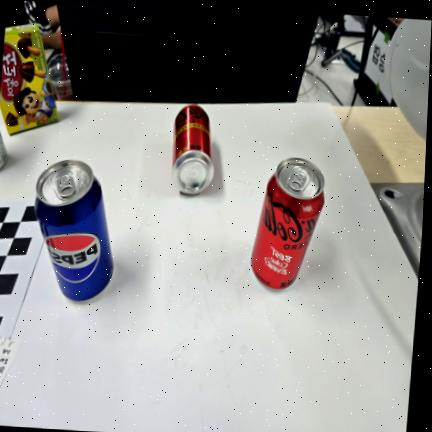can_coke_decaf: (171, 104, 214, 197)
can_coke_zero: (251, 158, 325, 289)
can_pepsi: (34, 158, 115, 302)
